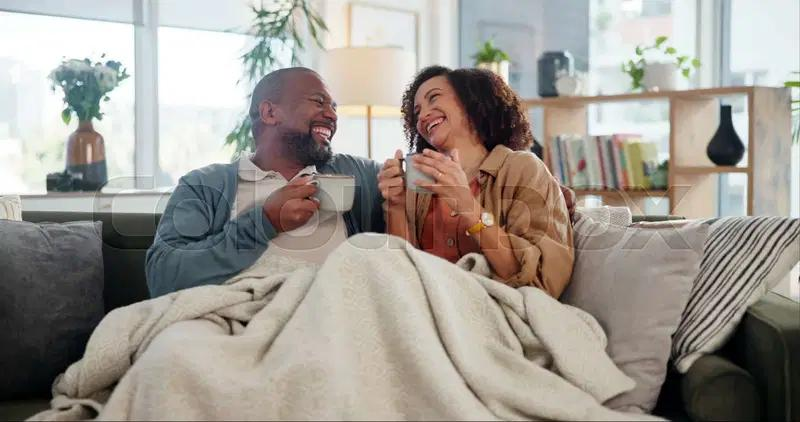blanket: (25, 230, 666, 422)
jacket: (143, 147, 394, 290), (382, 143, 576, 300)
short sleeve shirt: (230, 149, 356, 269)
